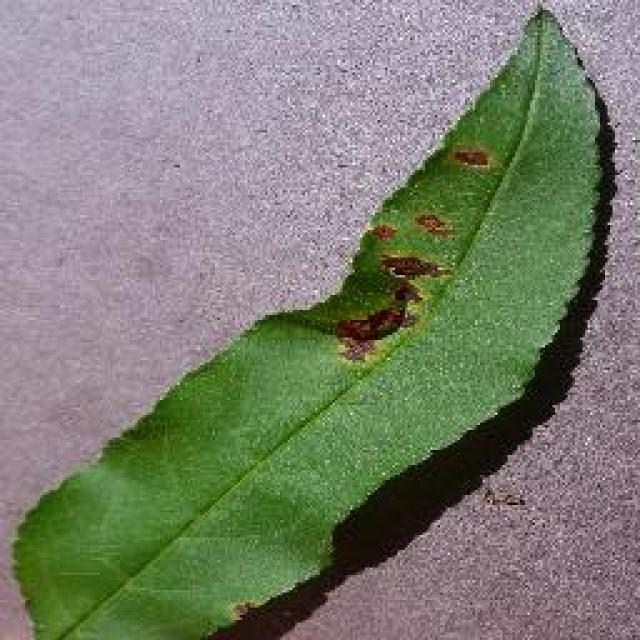Bacterial_spot: (322, 206, 484, 384), (438, 131, 513, 195)
